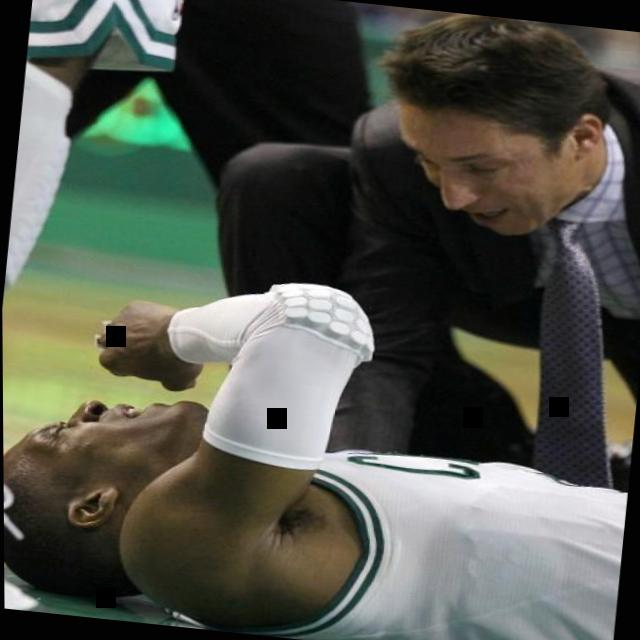Fall-Detected: (1, 240, 640, 640)
